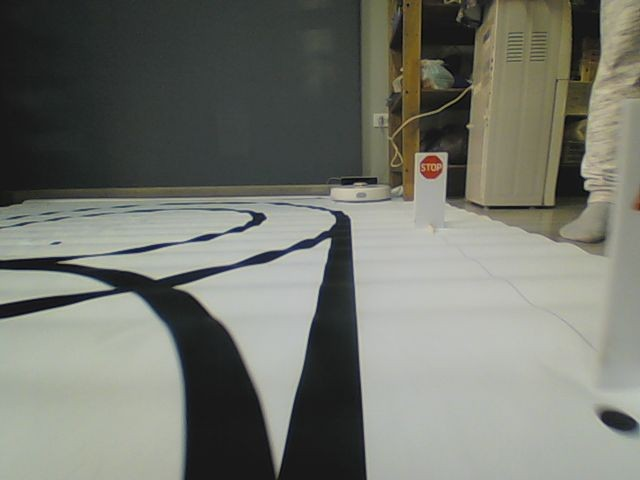Stop: (418, 154, 444, 180)
